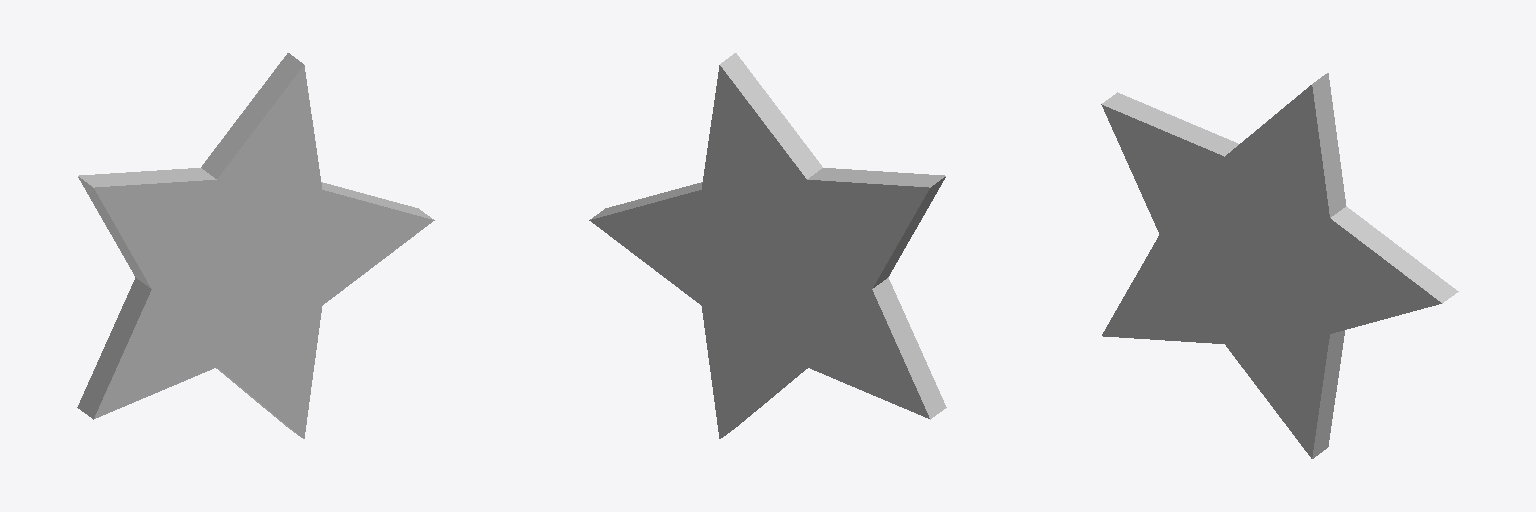
File: star 1.obj
3 views of the same model, side by side, from view 1: azimuth 30°, elevation 25°; view 2: azimuth 150°, elevation 25°; view 3: azimuth 330°, elevation 25° (orthographic).
Parts seen in each view (by area): view 1: obj_0; view 2: obj_0; view 3: obj_0.
Part boxes in pixels (x1,y1,x2,y2): obj_0: (77, 53, 434, 438); obj_0: (589, 53, 946, 438); obj_0: (1101, 73, 1458, 458).
Bounding box in the file's own units: 36.18 × 38.04 × 3.